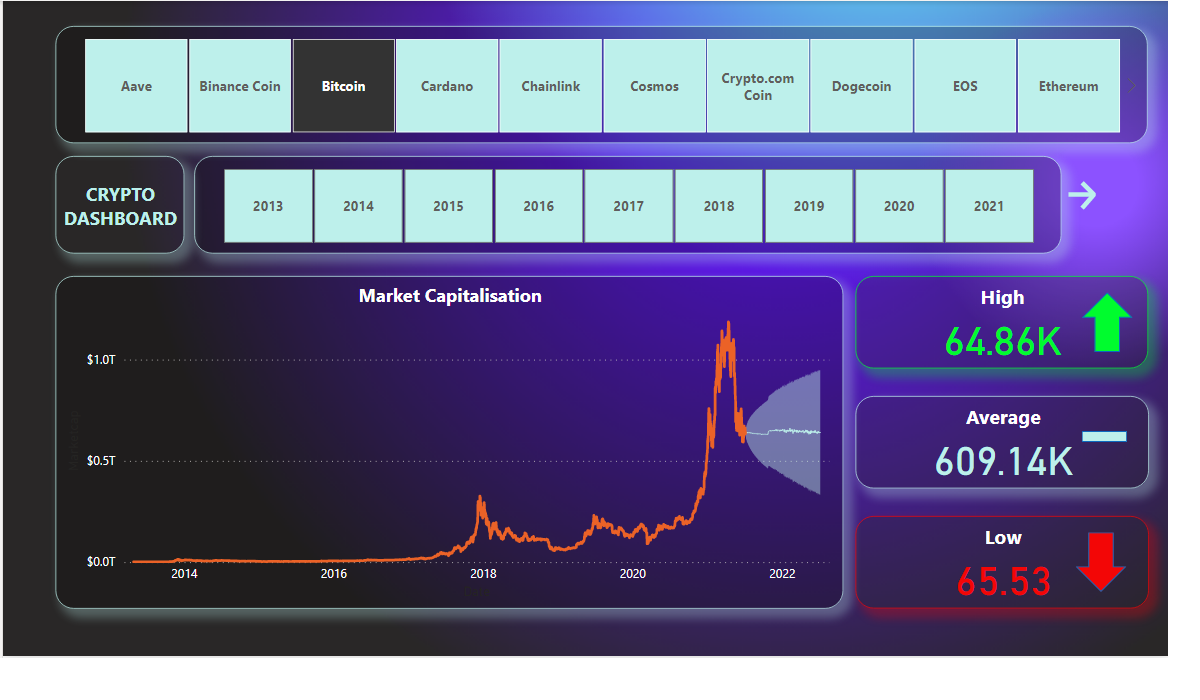

This screenshot's page, from the dashboard's own definition file:
{"tool":"powerbi","page":{"name":"Page 1","canvas":[1280,720],"ordinal":0},"visuals":[{"type":"slicer","fields":{"Values":["Crypto__2.Name"]},"box":[57.7,27.5,1200.3,129.1],"z":0},{"type":"slicer","fields":{"Values":["Crypto__2.Year"]},"box":[210.1,170.3,953.1,107.1],"z":1000},{"type":"lineChart","title":"Market Capitalisation","fields":{"Y":["Sum(Crypto__2.Marketcap)"],"Category":["Crypto__2.Date"]},"box":[57.7,302.1,865.2,365.3],"z":2000},{"type":"card","title":"High","fields":{"Values":["Max(Crypto__2.High)"]},"box":[936.7,302.1,321.4,101.6],"z":3000},{"type":"card","title":"Low","fields":{"Values":["Min(Crypto__2.Low)"]},"box":[936.7,565.8,322.7,101.6],"z":4000},{"type":"card","title":"Average","fields":{"Values":["Sum(Crypto__2.Day Average)"]},"box":[936.7,434,322.7,101.6],"z":5000},{"type":"shape","box":[1185.2,320,56.3,65.9],"z":6000},{"type":"shape","box":[1178.4,583.7,56.3,65.9],"z":7000},{"type":"shape","box":[1185.2,472.4,49.4,12.4],"z":8000},{"type":"shape","box":[57.7,170.3,141.5,107.1],"z":9000},{"type":"actionButton","box":[1164.6,193.6,100.3,39.8],"z":10000}]}

Visuals, with their boxes on the page's 1280x720 design canvas (x1, y1, x2, y2). These are canvas units, not pixel positions in the 1200x700 screenshot, which may show the page scaled, cropped or inside an application window:
slicer - Crypto__2.Name: x1=58, y1=28, x2=1258, y2=157
slicer - Crypto__2.Year: x1=210, y1=170, x2=1163, y2=277
"Market Capitalisation" lineChart: x1=58, y1=302, x2=923, y2=667
"High" card: x1=937, y1=302, x2=1258, y2=404
"Low" card: x1=937, y1=566, x2=1259, y2=667
"Average" card: x1=937, y1=434, x2=1259, y2=536
shape: x1=1185, y1=320, x2=1242, y2=386
shape: x1=1178, y1=584, x2=1235, y2=650
shape: x1=1185, y1=472, x2=1235, y2=485
shape: x1=58, y1=170, x2=199, y2=277
actionButton: x1=1165, y1=194, x2=1265, y2=233
